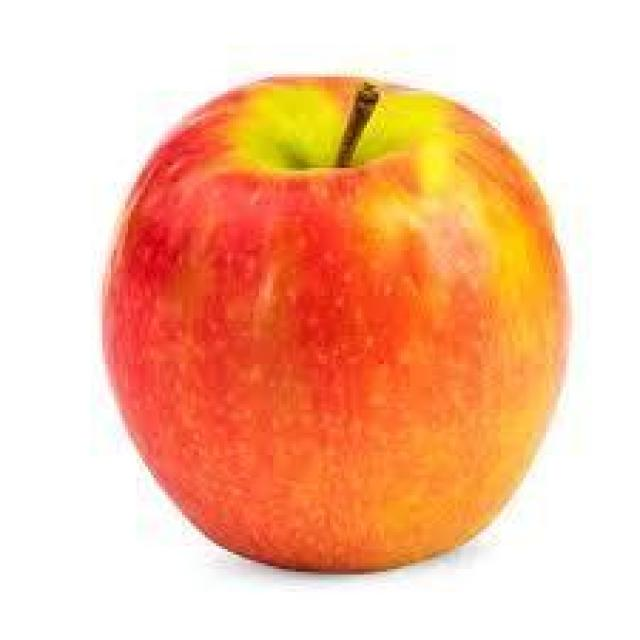maca: (99, 71, 572, 572)
